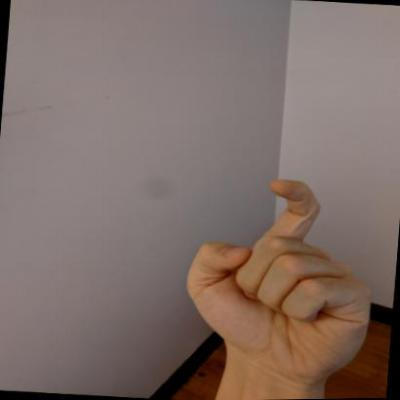hand: (175, 170, 386, 390)
